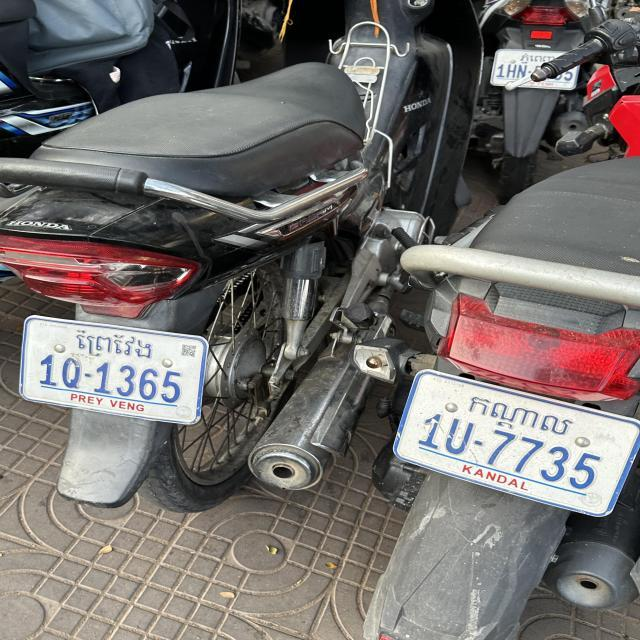Kandal: (470, 388, 574, 439)
Prey_Veng: (71, 326, 154, 363)
